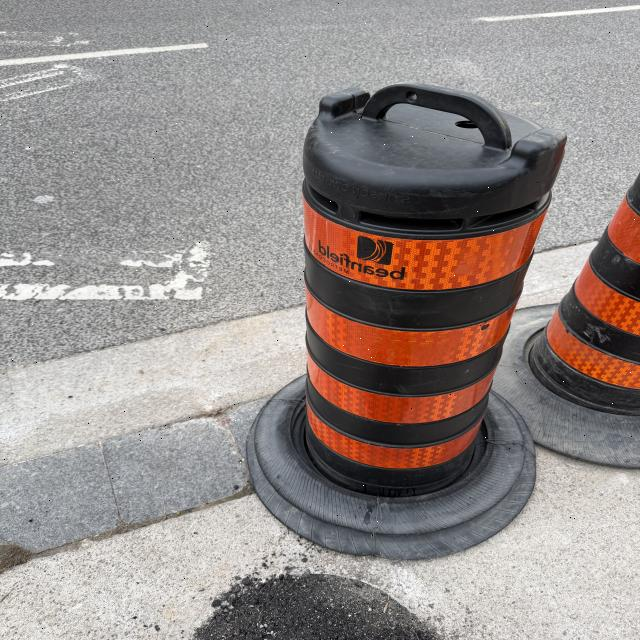Teraffic Barrel: (248, 83, 566, 558), (496, 176, 640, 468)
